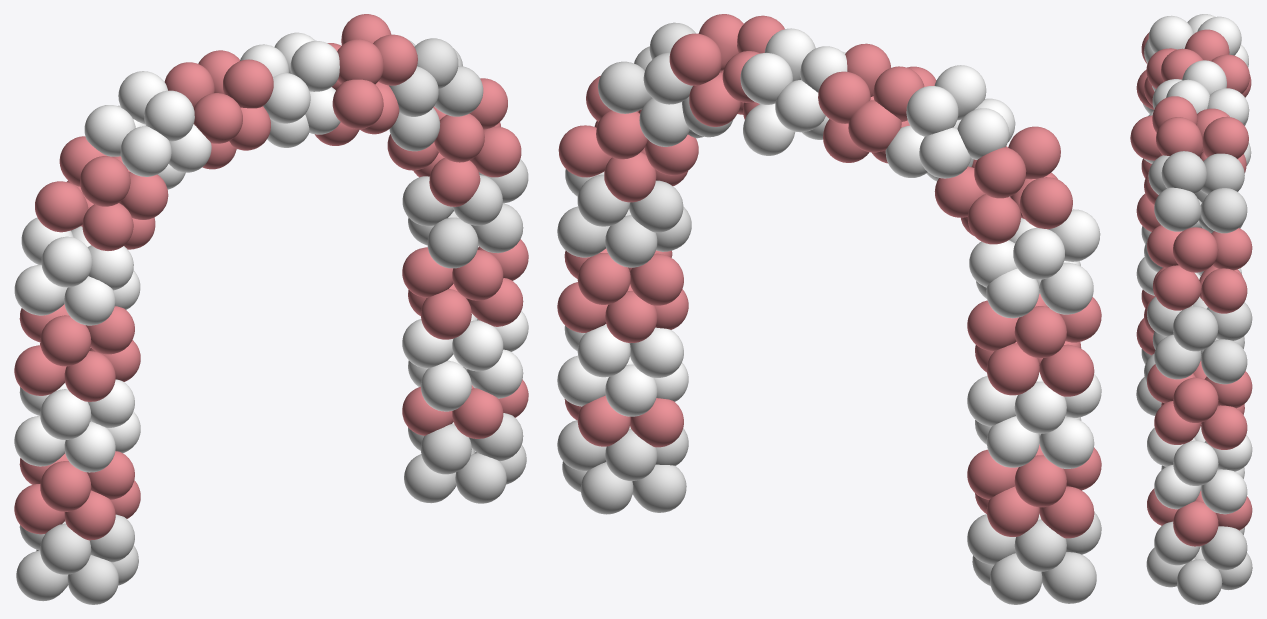
Rendered from full-arch-cluster.glb.
The picture shows the model from 3 angles, left to right: view 1: azimuth 30°, elevation 25°; view 2: azimuth 150°, elevation 25°; view 3: azimuth 270°, elevation 25°; orthographic projection. The views are drawn at different scales.
Visible parts, largest first — view 1: Sphere.047, Sphere.048, Sphere.028, Sphere.036, Sphere.086, Sphere.106, Sphere.023, Sphere.090, Sphere.056, Sphere.082, Sphere.066, Sphere.011 (+5 smaller); view 2: Sphere.047, Sphere.028, Sphere.048, Sphere.036, Sphere.086, Sphere.124, Sphere.023, Sphere.106, Sphere.056, Sphere.082, Sphere.002, Sphere.011 (+5 smaller); view 3: Sphere.090, Sphere.068, Sphere.082, Sphere.086, Sphere.106, Sphere.113, Sphere.066, Sphere.056, Sphere.124, Sphere.110, Sphere.048, Sphere.036 (+4 smaller).
Boxes of the visible parts, box(x1,y1,x2,y2) form: Sphere.047: box(35, 136, 168, 250); Sphere.048: box(84, 71, 211, 189); Sphere.028: box(14, 217, 140, 325); Sphere.036: box(14, 304, 140, 401); Sphere.086: box(402, 239, 528, 339); Sphere.106: box(402, 311, 528, 411); Sphere.023: box(14, 379, 140, 472); Sphere.090: box(387, 78, 521, 206); Sphere.056: box(164, 50, 273, 169); Sphere.082: box(402, 159, 528, 268); Sphere.066: box(315, 14, 417, 145); Sphere.011: box(14, 451, 140, 540); Sphere.047: box(934, 126, 1072, 244); Sphere.028: box(969, 209, 1100, 318); Sphere.048: box(885, 65, 1015, 181); Sphere.036: box(967, 294, 1101, 396); Sphere.086: box(557, 248, 688, 342); Sphere.124: box(740, 28, 847, 155); Sphere.023: box(967, 372, 1101, 468); Sphere.106: box(557, 324, 688, 416); Sphere.056: box(818, 43, 936, 163); Sphere.082: box(557, 169, 691, 267); Sphere.002: box(967, 512, 1101, 604); Sphere.011: box(967, 444, 1101, 538); Sphere.090: box(1147, 225, 1252, 313); Sphere.068: box(1148, 151, 1247, 233); Sphere.082: box(1147, 296, 1252, 384); Sphere.086: box(1147, 360, 1252, 449); Sphere.106: box(1147, 426, 1252, 514); Sphere.113: box(1146, 521, 1252, 604); Sphere.066: box(1130, 96, 1248, 172); Sphere.056: box(1146, 29, 1251, 97); Sphere.124: box(1152, 60, 1251, 165); Sphere.110: box(1147, 488, 1252, 546); Sphere.048: box(1144, 14, 1248, 91); Sphere.036: box(1136, 158, 1160, 231).
Size of the model in its own units: 23.37 by 21.61 by 5.44.
